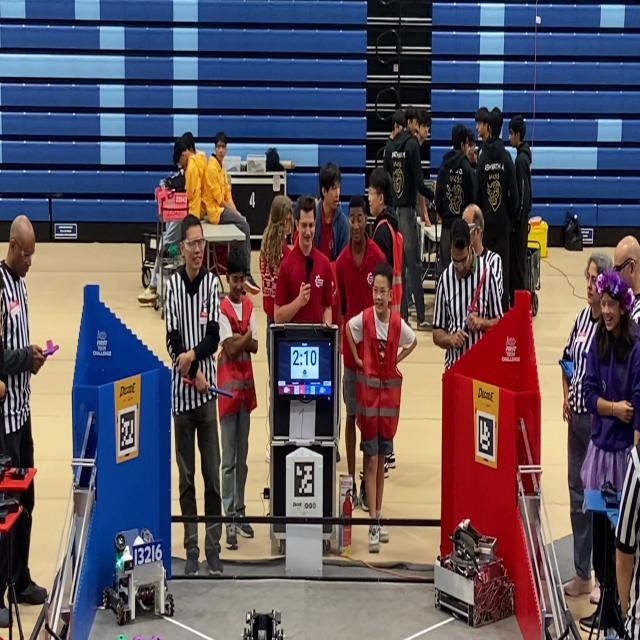artifact_green: (168, 243, 179, 258), (116, 635, 127, 639)
artifact_purple: (151, 636, 162, 639), (133, 636, 143, 639)
